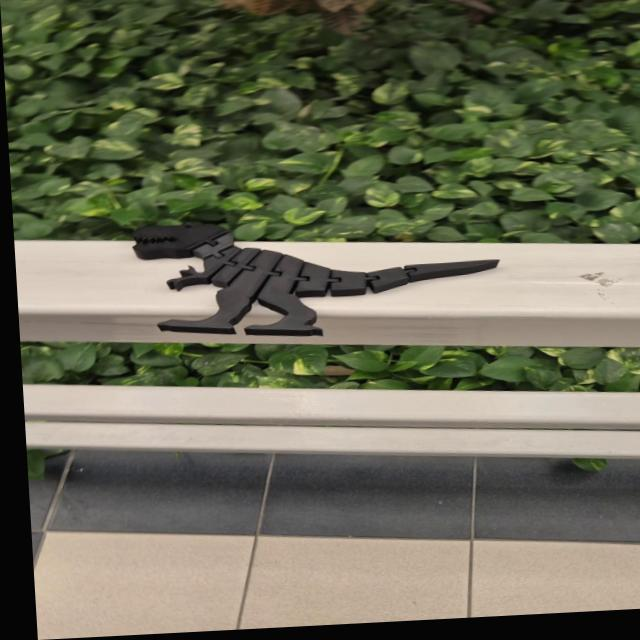dino: (129, 204, 505, 347)
